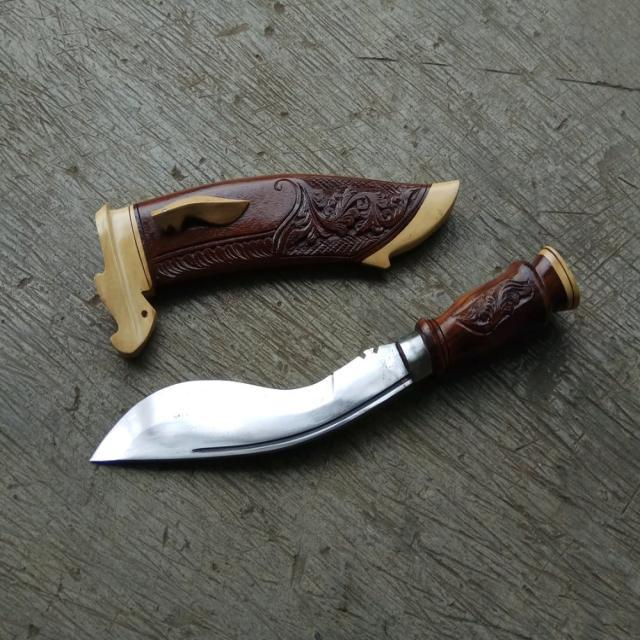Pisau: (80, 227, 597, 474)
